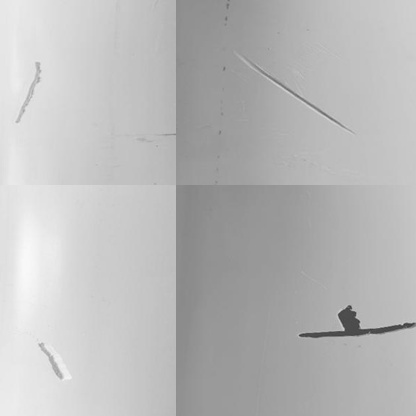fengxi: (296, 324, 416, 336)
kongdong: (337, 303, 361, 331)
sunshang: (234, 49, 355, 134), (13, 59, 41, 127), (38, 336, 74, 384)
